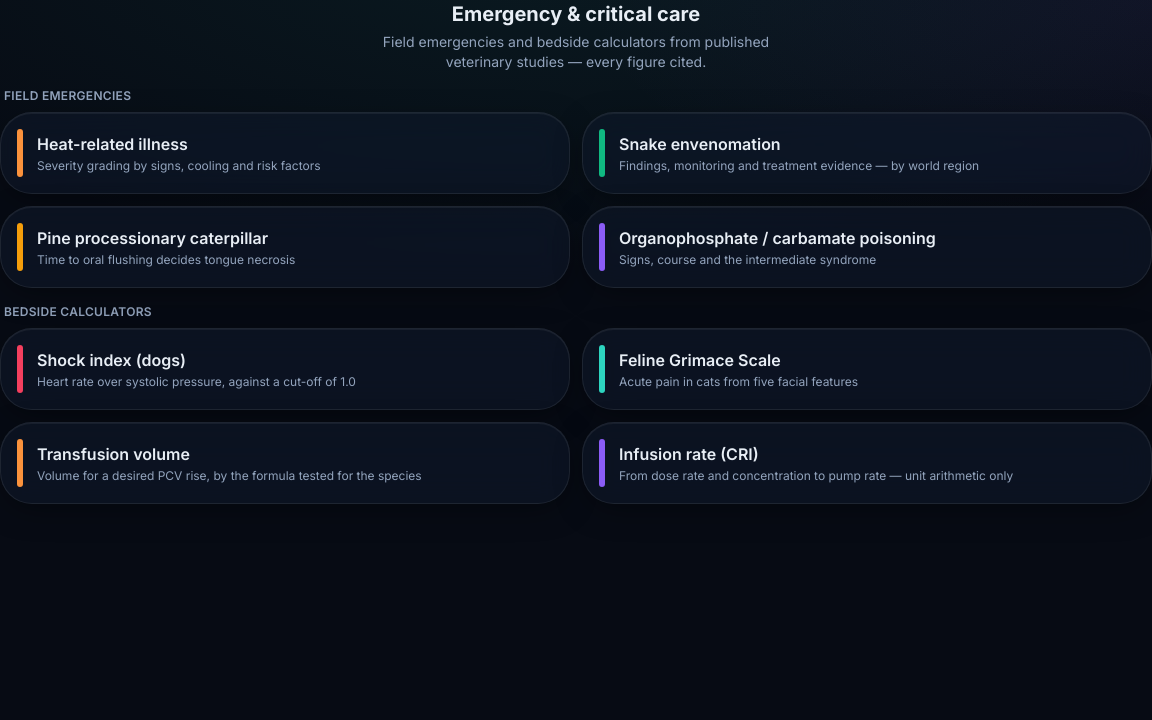
Scenario: emergency suite — navigation › lists the four field emergencies and opens one
This screenshot has width=1152, height=720.
Expected: the button "Heat-related illness" is shown, [0, 112, 570, 194]
Expected: the button "processionary" is shown, [0, 206, 570, 288]
Click the button "Snake envenomation".
click(700, 144)  # box [582, 112, 1151, 194]
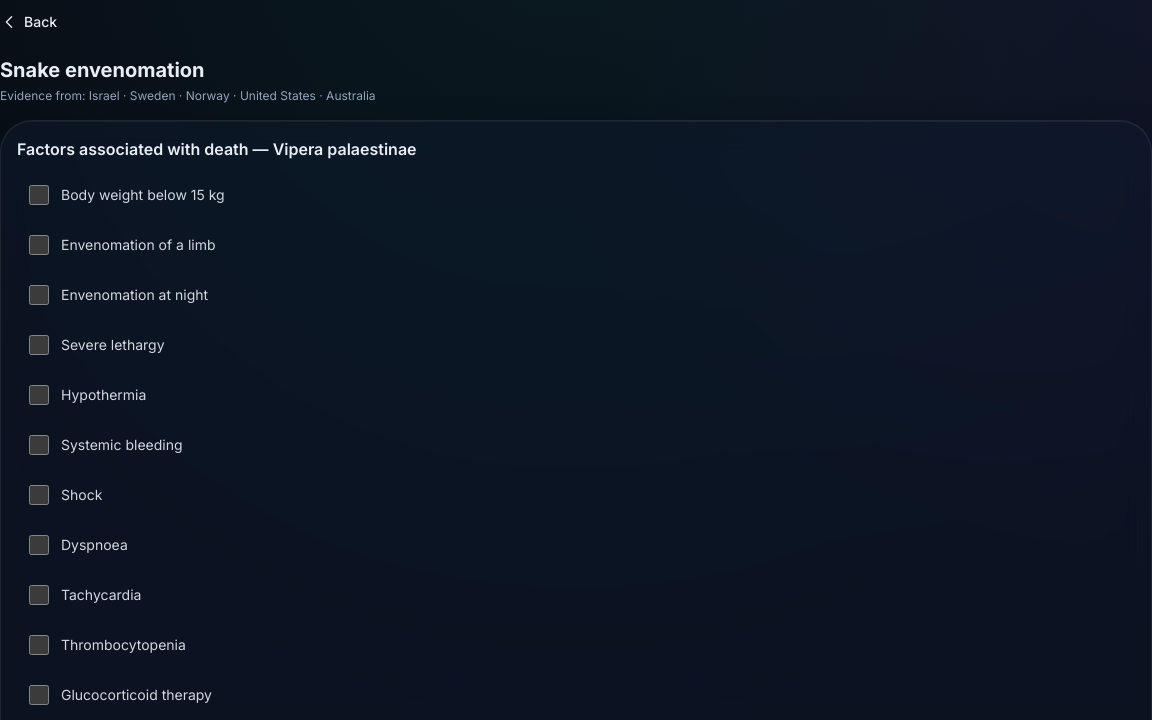
Expected: the heading "Snake envenomation" is shown, [0, 58, 205, 82]
